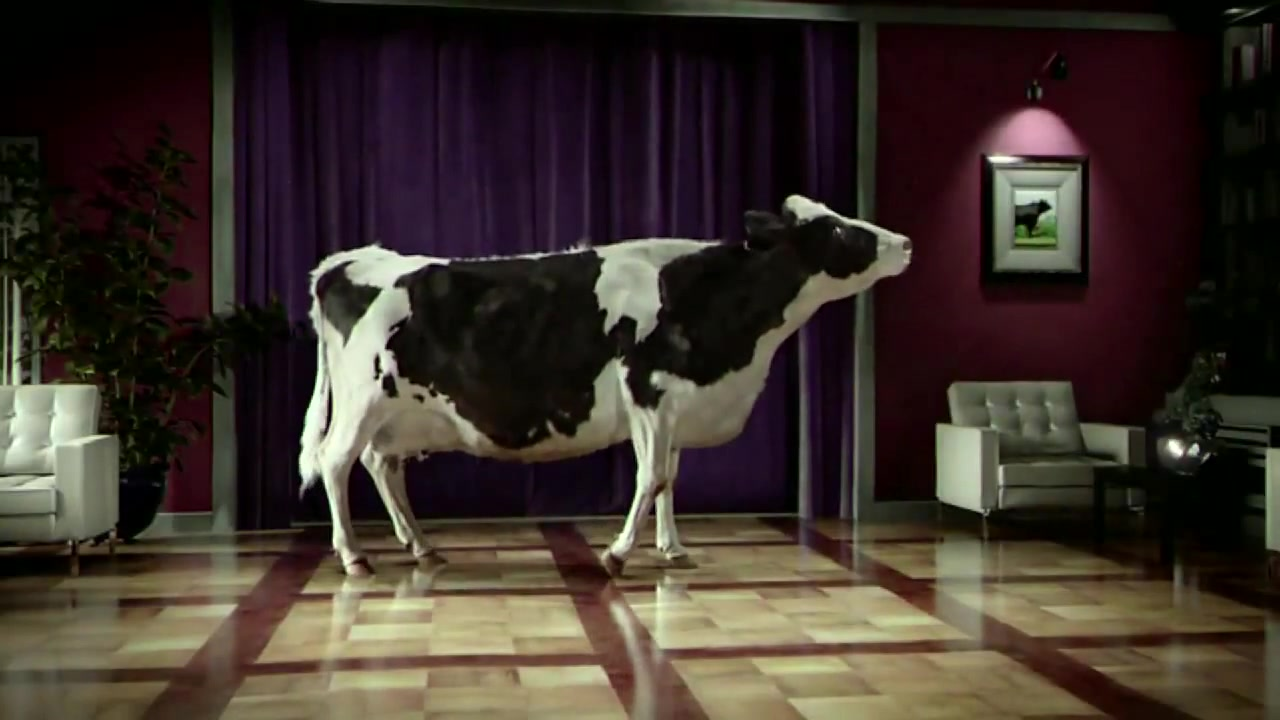cow: (293, 191, 919, 586)
